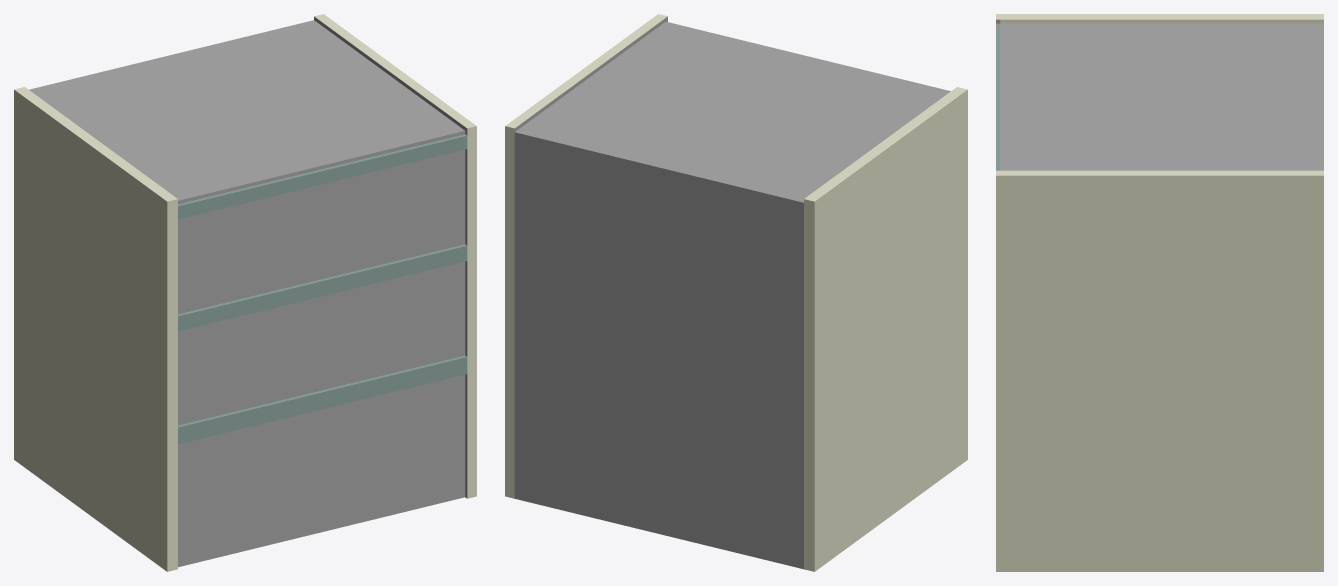
The model's file is HospitalSideTable01.fbx.
3 renders of one model, left to right at view 1: azimuth 30°, elevation 25°; view 2: azimuth 150°, elevation 25°; view 3: azimuth 270°, elevation 25°, orthographic. The views are drawn at different scales.
Parts seen in each view (by area): view 1: pCube35; view 2: pCube35; view 3: pCube35.
Boxes of the visible parts, x1=… form: pCube35: x1=14, y1=14, x2=476, y2=571; pCube35: x1=505, y1=14, x2=967, y2=571; pCube35: x1=996, y1=14, x2=1323, y2=571.
Bounding box in the file's own units: 140 × 160 × 120.
